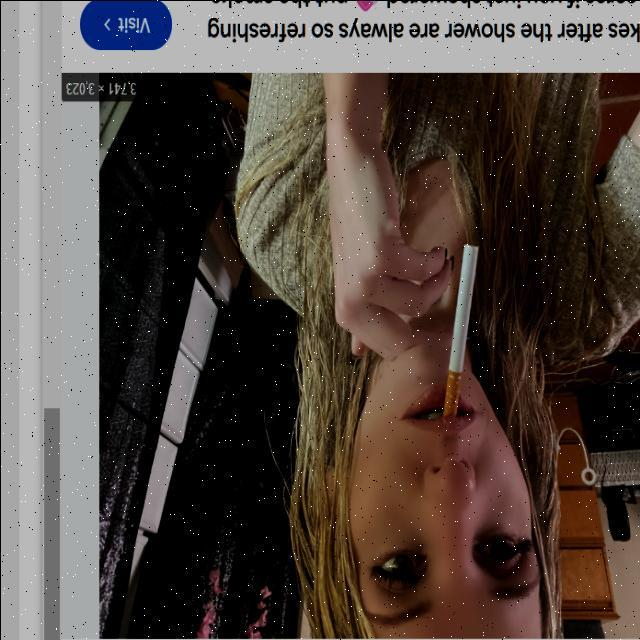face_no_mask: (345, 335, 545, 640)
